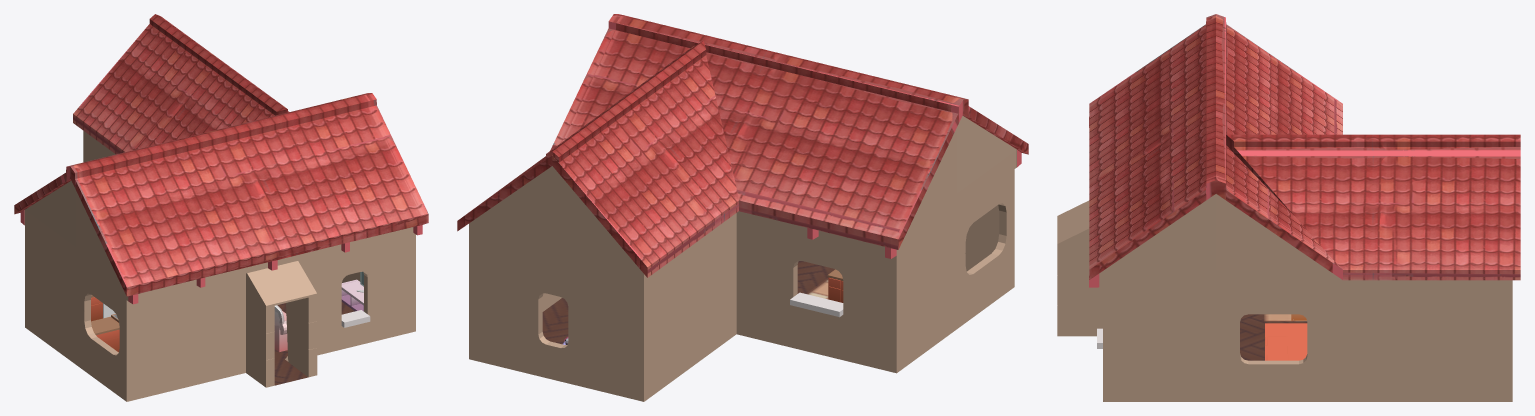
File: testbig.glb
3 renders of one model, left to right at view 1: azimuth 30°, elevation 25°; view 2: azimuth 150°, elevation 25°; view 3: azimuth 270°, elevation 25°, orthographic. The views are drawn at different scales.
Visible parts, largest first — view 1: Plane, small counter.001, tv stand, sofa; view 2: Plane; view 3: Plane, livingtable.001.
Part boxes in pixels (x1,y1,x2,y2): Plane: (14,14,428,401); small counter.001: (91,316,119,352); tv stand: (341,279,363,311); sofa: (274,305,287,352); Plane: (457,14,1028,401); Plane: (1057,14,1520,401); livingtable.001: (1265,323,1307,360).
Bounding box in the file's own units: 7.25 × 4.59 × 8.55.
Materials: 20 (17 with a texture image).
